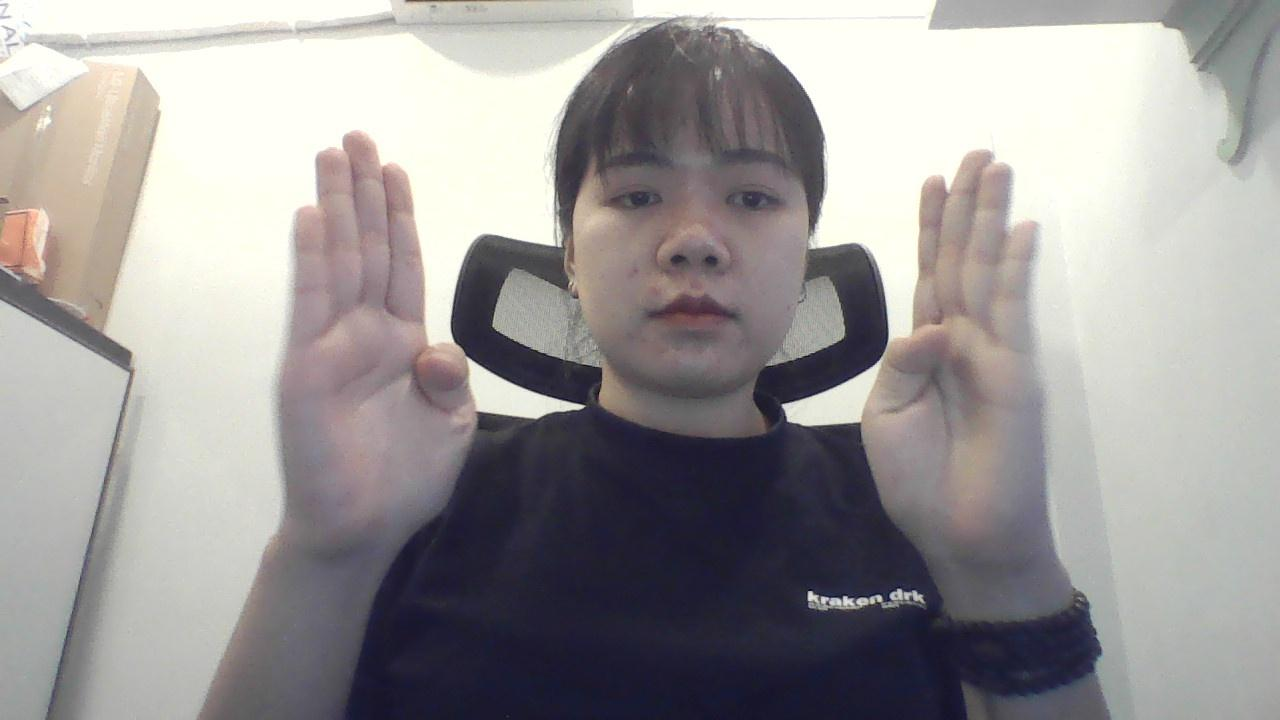B: (254, 114, 490, 574), (857, 129, 1076, 600)
